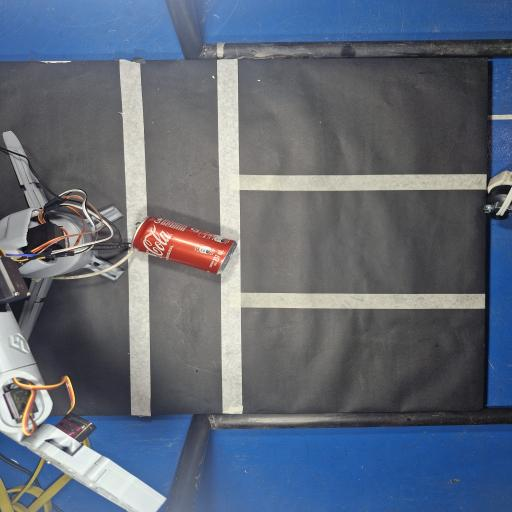lata: (131, 217, 237, 275)
